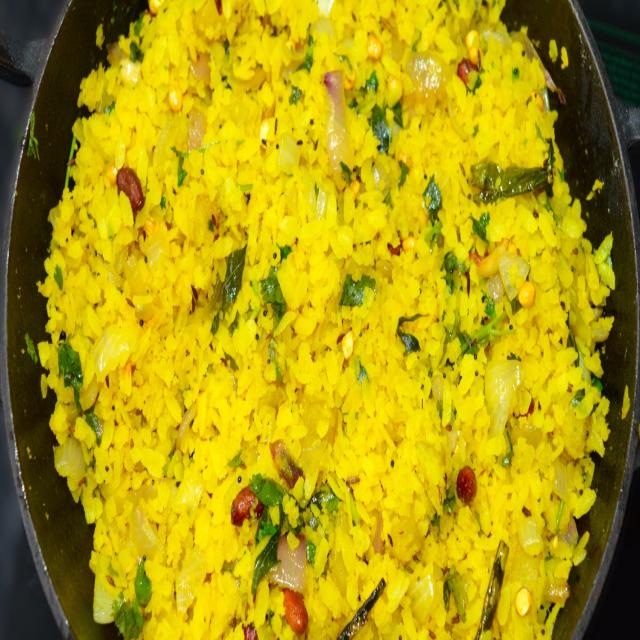POHA: (32, 0, 620, 637)
